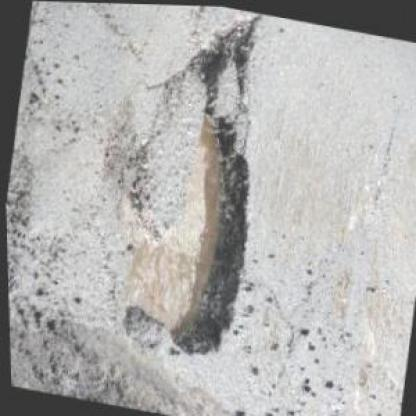pothole: (92, 89, 270, 364), (176, 4, 264, 104)
